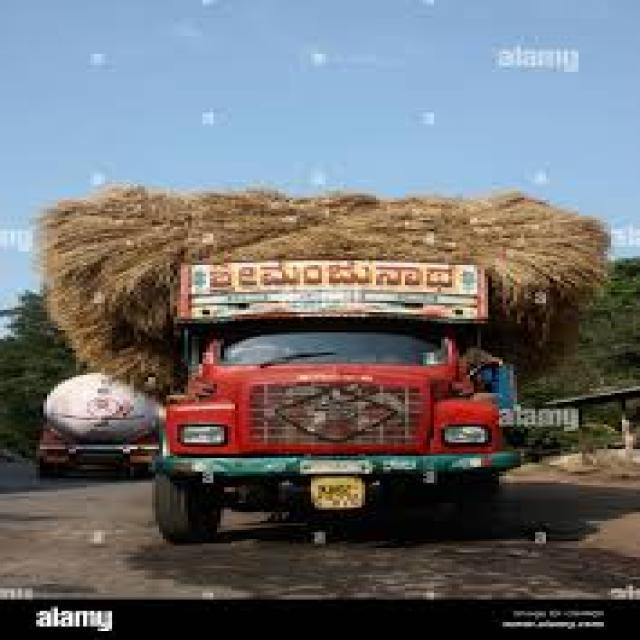uncovered: (32, 185, 607, 542)
